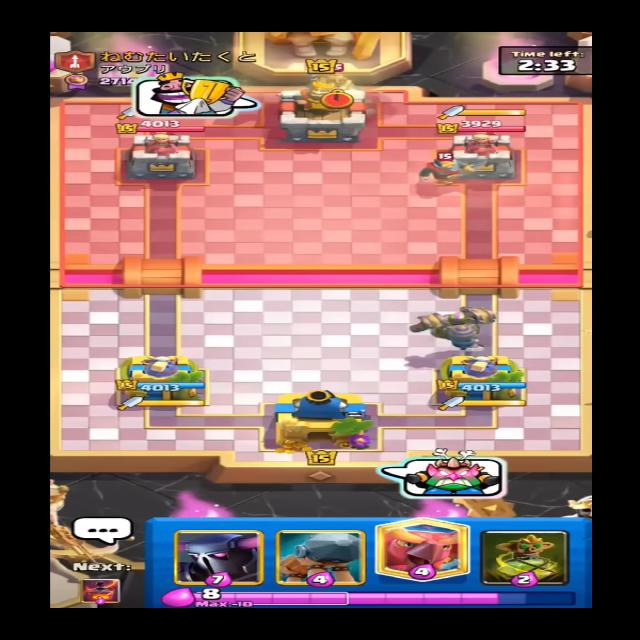Knight: (416, 150, 474, 185)
Prince: (306, 63, 357, 99)
